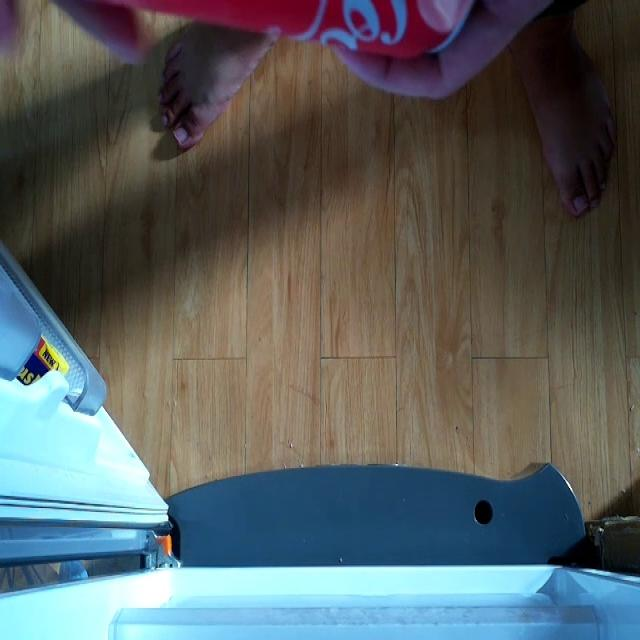coke: (118, 0, 482, 58)
